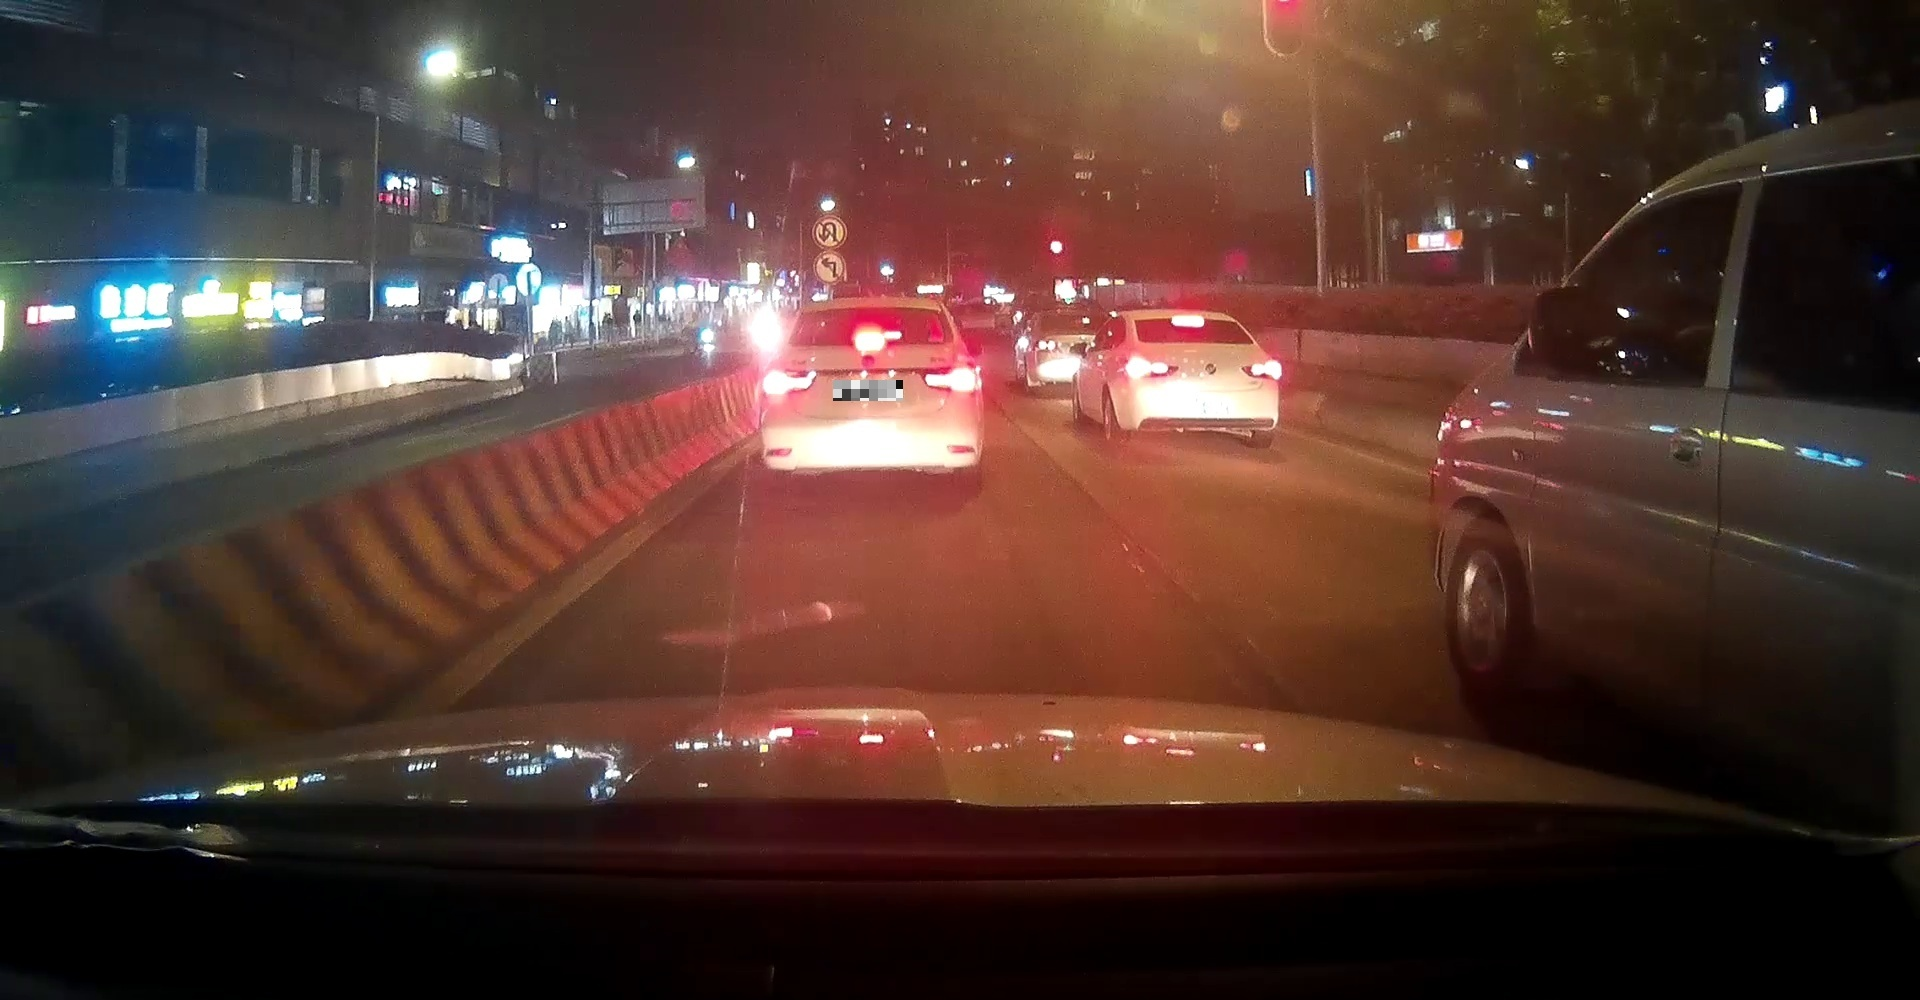L_light: (762, 371, 817, 393), (1130, 360, 1178, 377)
R_light: (918, 369, 974, 393), (1242, 364, 1277, 381)
T_light: (855, 332, 902, 346), (1171, 315, 1205, 324)
night-brake: (759, 296, 983, 491), (1114, 308, 1281, 448)
plate_1: (833, 379, 903, 401)
